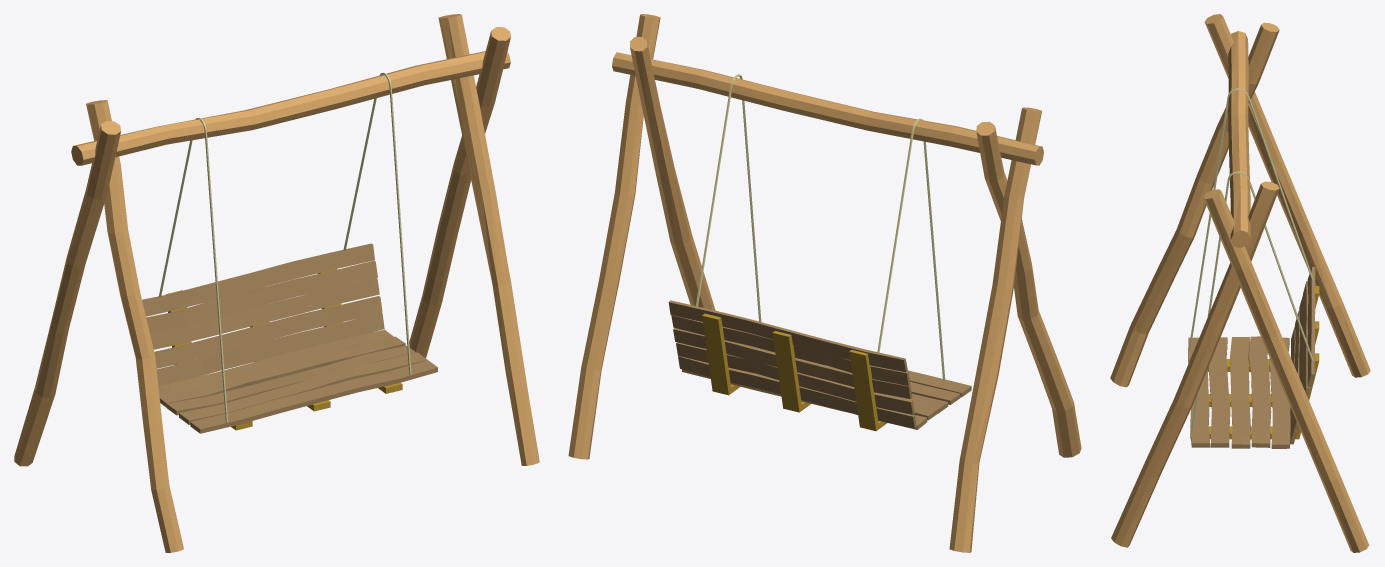
File: swing_01.fbx
3 views of the same model, side by side, from view 1: azimuth 30°, elevation 25°; view 2: azimuth 150°, elevation 25°; view 3: azimuth 270°, elevation 25° (orthographic). The views are drawn at different scales.
Parts seen in each view (by area): view 1: Swing_01; view 2: Swing_01; view 3: Swing_01.
Part boxes in pixels (<box>): Swing_01: <box>14,14,539,552</box>; Swing_01: <box>568,14,1081,552</box>; Swing_01: <box>1110,14,1370,552</box>.
Size of the model in its own units: 85.03 by 48.47 by 74.64.
